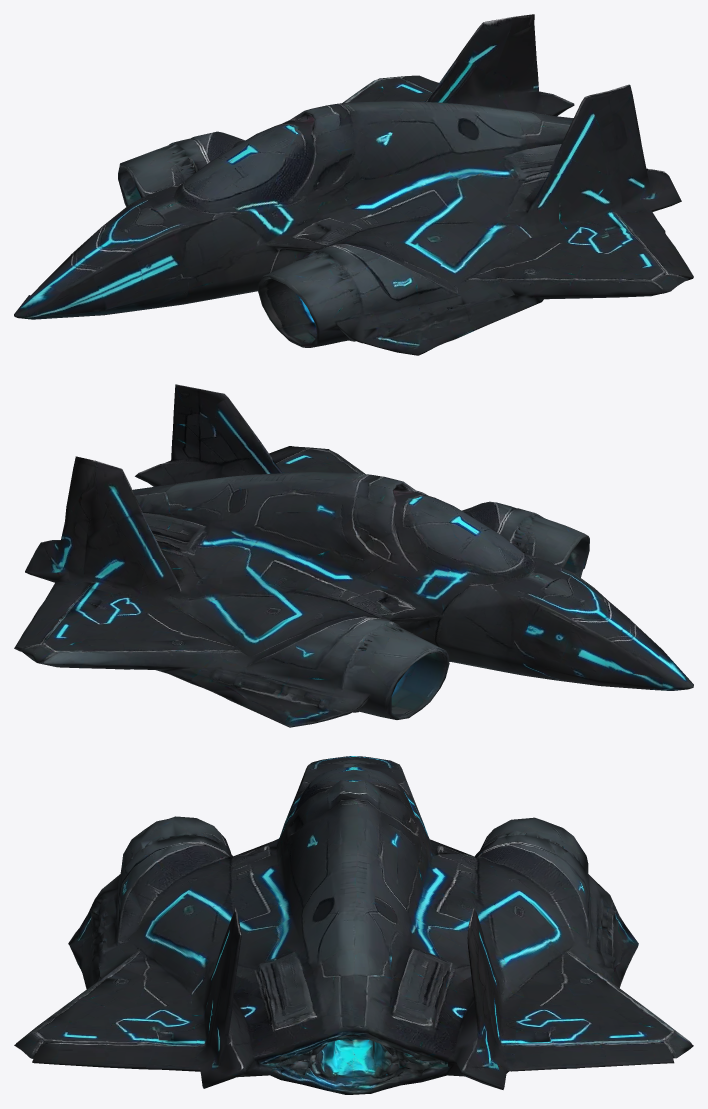
Rendered from tron.glb.
3 renders of one model, top to bottom at view 1: azimuth 30°, elevation 25°; view 2: azimuth 150°, elevation 25°; view 3: azimuth 270°, elevation 25°, orthographic. The views are drawn at different scales.
Visible parts, largest first — view 1: mesh_0; view 2: mesh_0; view 3: mesh_0.
Part boxes in pixels (x1=…): mesh_0: x1=14, y1=14, x2=693, y2=355; mesh_0: x1=14, y1=384, x2=693, y2=727; mesh_0: x1=14, y1=756, x2=693, y2=1094.
Size of the model in its own units: 1.9 by 0.4734 by 1.58.
Materials: 1 (1 with a texture image).
